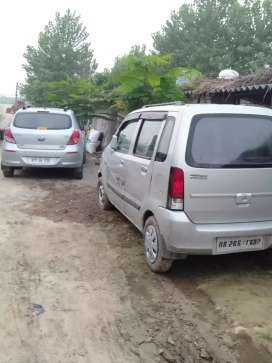nameplate: (215, 236, 264, 252), (22, 155, 60, 166)
